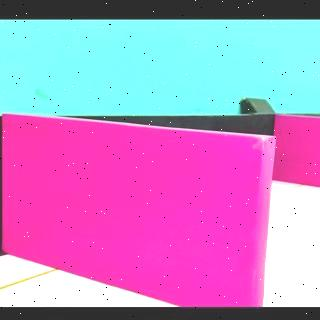xparking: (24, 140, 258, 302), (286, 120, 316, 186)
